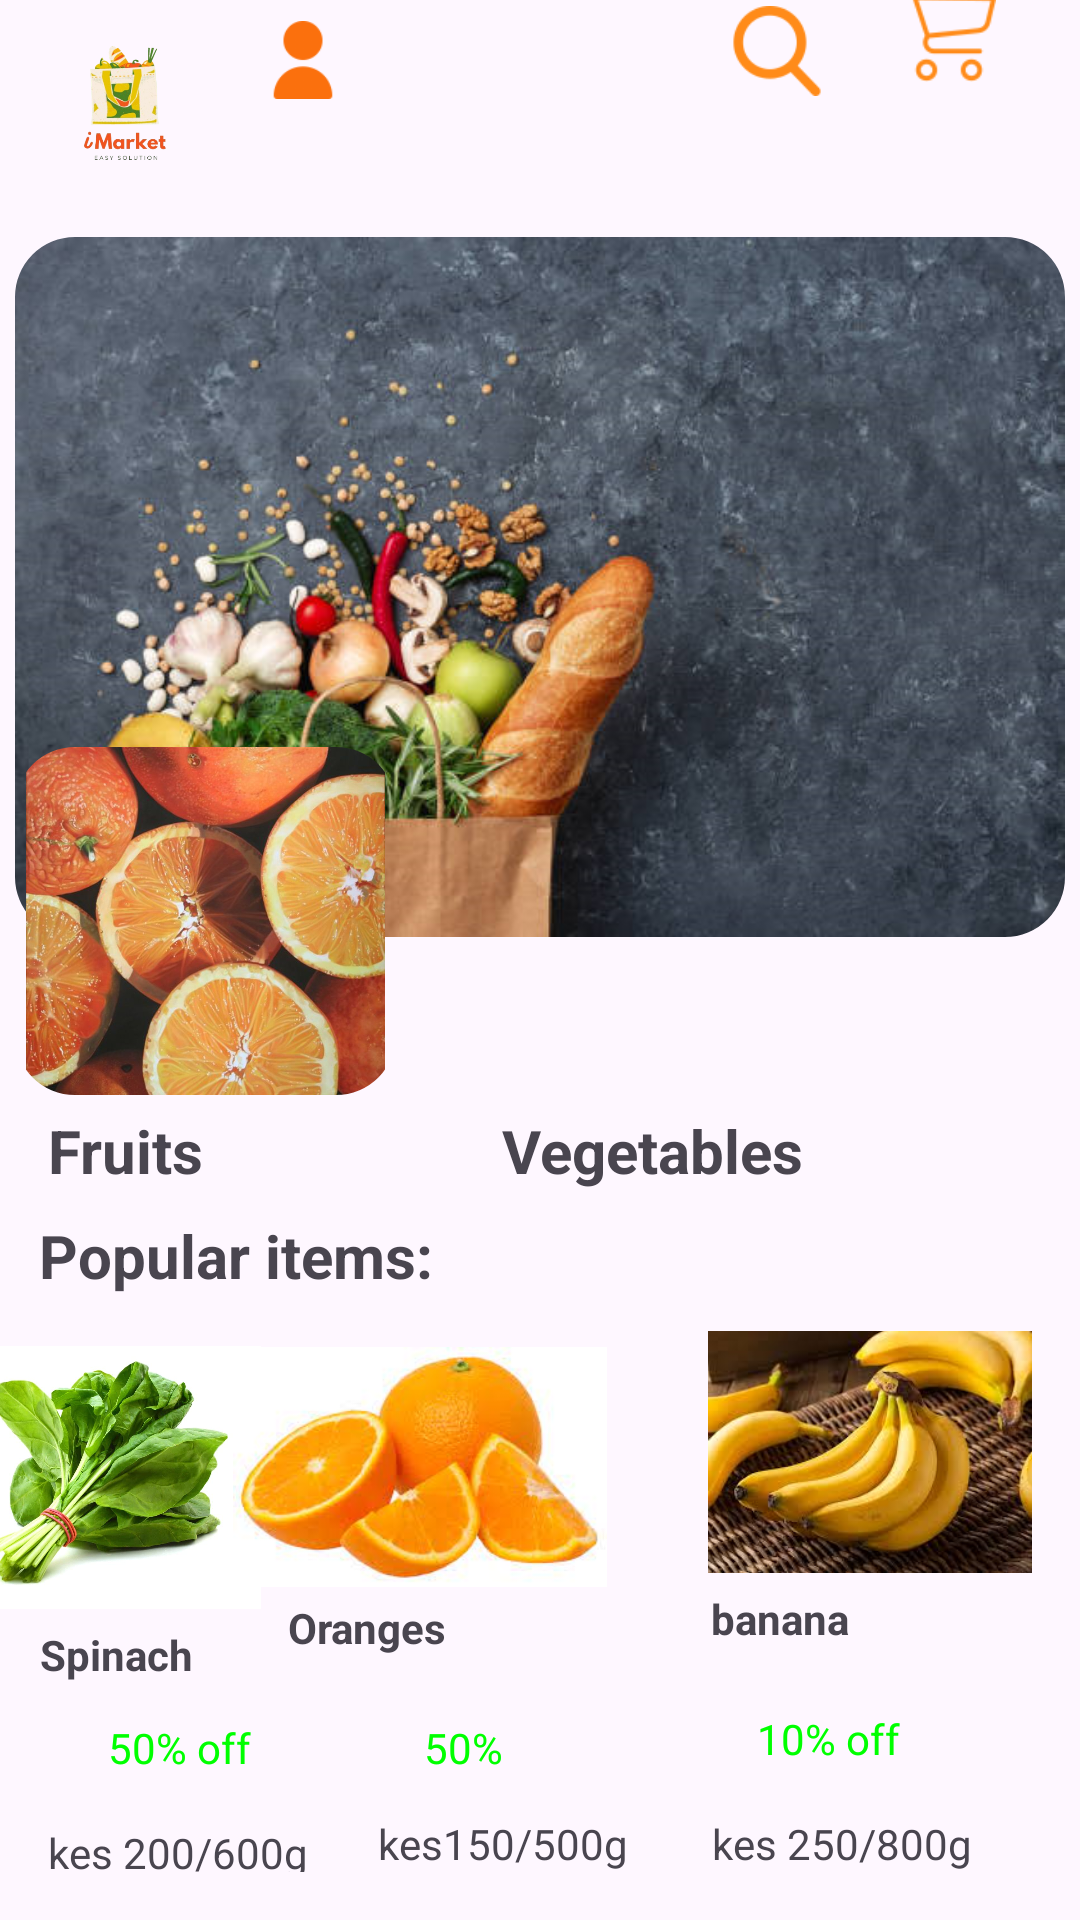

Named icons in this screenshot (1080*1920) and their centers, (x,y):
search: (777,51)
user: (303,60)
